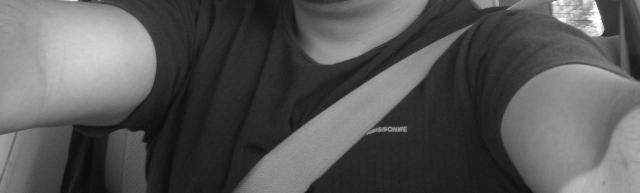Seatbelt: (223, 0, 562, 193)
